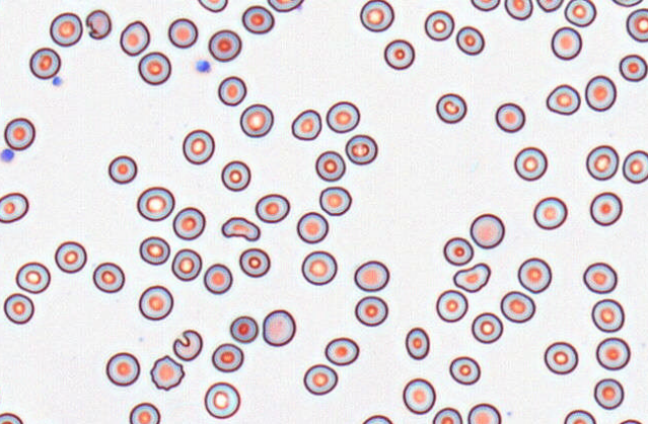PLT: (0, 147, 17, 164), (194, 59, 211, 74), (52, 75, 63, 86)
RBC: (204, 381, 240, 419), (136, 186, 174, 221), (149, 354, 184, 390), (469, 213, 504, 249), (301, 250, 337, 285), (138, 285, 173, 320), (105, 351, 140, 386), (517, 257, 551, 293), (585, 144, 619, 180), (262, 309, 295, 346), (402, 377, 435, 414), (513, 146, 547, 181), (239, 103, 273, 137), (137, 51, 171, 85), (325, 100, 360, 133), (500, 290, 535, 323), (543, 341, 578, 374), (595, 337, 630, 370), (589, 191, 622, 226), (584, 75, 616, 111), (49, 12, 82, 46), (172, 206, 205, 240), (591, 298, 624, 332), (533, 196, 567, 229), (303, 363, 338, 395), (15, 261, 50, 293), (545, 83, 580, 115), (182, 129, 214, 164), (359, 0, 394, 32), (119, 20, 150, 56), (353, 260, 389, 291), (54, 240, 87, 273), (435, 289, 468, 322), (208, 29, 241, 62), (550, 26, 582, 60), (583, 261, 617, 293), (92, 261, 125, 293), (3, 117, 35, 150), (354, 295, 388, 326), (255, 193, 290, 223), (324, 336, 359, 366), (471, 311, 503, 343), (296, 211, 328, 243), (29, 47, 61, 79), (171, 248, 202, 281), (3, 292, 34, 324), (345, 134, 377, 165), (383, 38, 414, 70), (167, 17, 198, 48), (593, 378, 624, 409), (314, 150, 345, 181), (435, 92, 466, 123), (211, 342, 243, 372), (424, 9, 454, 41), (319, 186, 351, 216), (291, 108, 321, 140), (238, 247, 270, 277), (241, 5, 274, 34), (139, 235, 170, 265), (449, 355, 480, 385), (221, 160, 251, 191), (494, 102, 525, 132), (0, 192, 29, 223), (203, 263, 232, 294), (217, 75, 246, 106), (455, 25, 484, 55), (443, 236, 473, 265), (107, 155, 137, 184), (564, 0, 596, 27), (622, 149, 647, 183), (229, 315, 258, 343), (618, 53, 647, 81), (405, 326, 429, 359), (626, 8, 647, 42), (467, 403, 501, 423), (129, 402, 160, 423), (504, 0, 533, 20), (432, 407, 462, 423), (563, 409, 596, 423), (267, 0, 304, 12), (197, 0, 228, 12), (470, 0, 500, 11), (536, 0, 563, 12), (361, 414, 393, 423), (0, 412, 23, 423), (611, 0, 643, 7), (616, 418, 643, 424)
Schistocyte: (449, 263, 492, 294), (170, 327, 203, 361), (221, 216, 261, 242), (84, 9, 112, 41)
